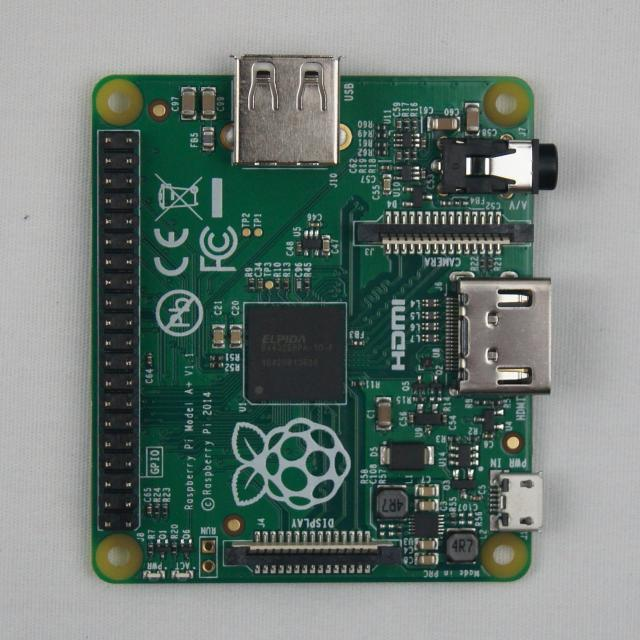Raspberry-Pi-1-A-: (92, 56, 558, 584)
